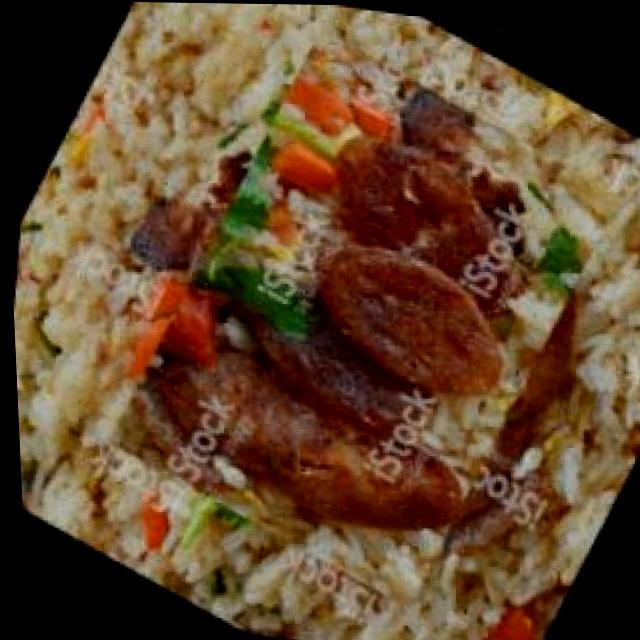chinese_sausage: (56, 19, 640, 615)
